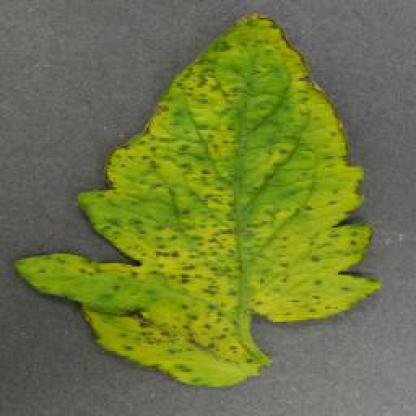bad leaf: (117, 26, 356, 360)
